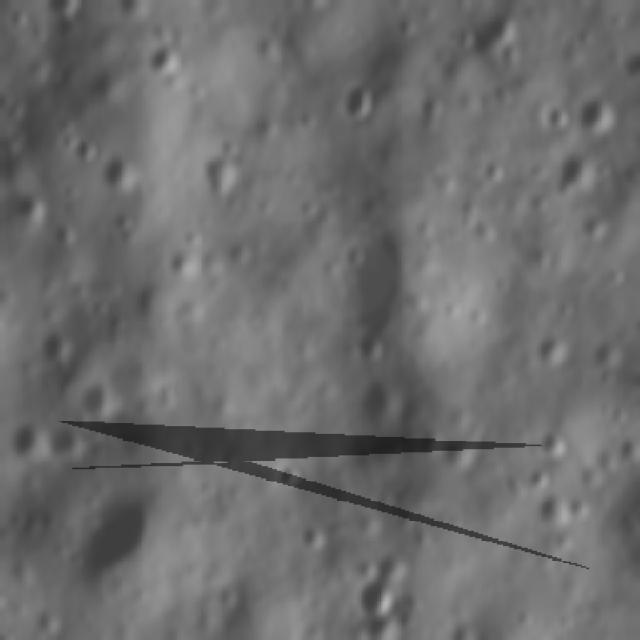crater: (344, 77, 381, 121), (543, 498, 582, 530), (361, 584, 402, 613), (584, 100, 616, 134), (68, 133, 103, 164), (276, 458, 310, 488), (358, 339, 391, 367), (535, 438, 576, 460), (545, 104, 566, 130), (530, 469, 548, 491)
